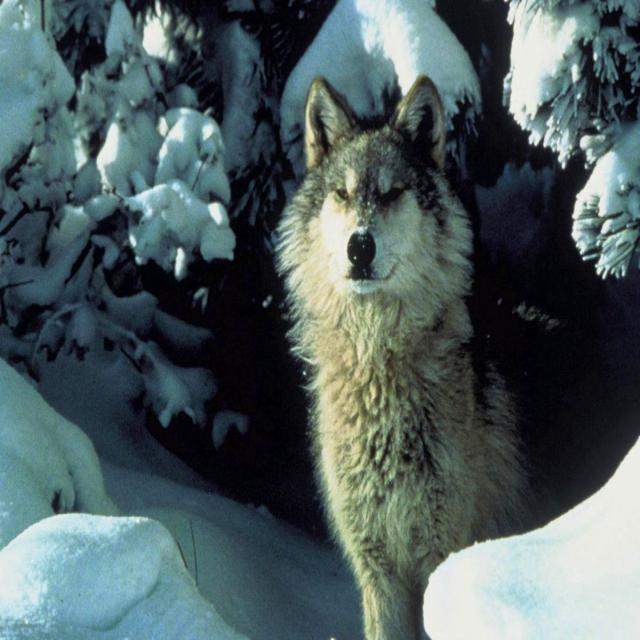wolf: (276, 76, 567, 639)
